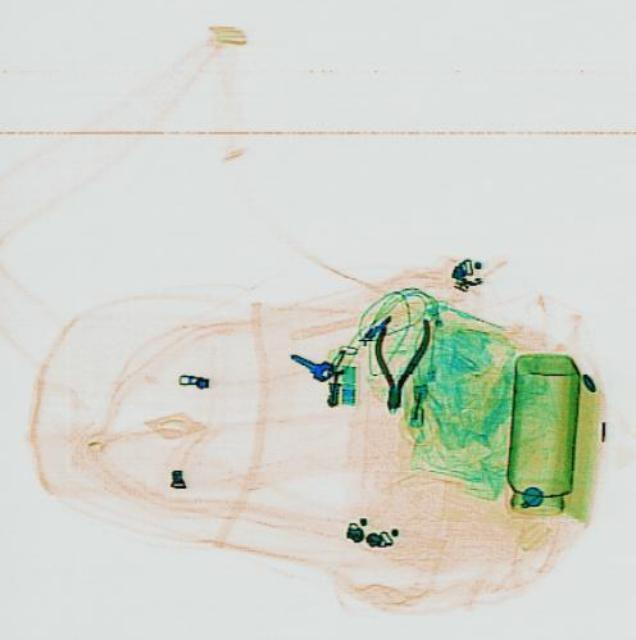Pliers: (361, 311, 429, 414)
